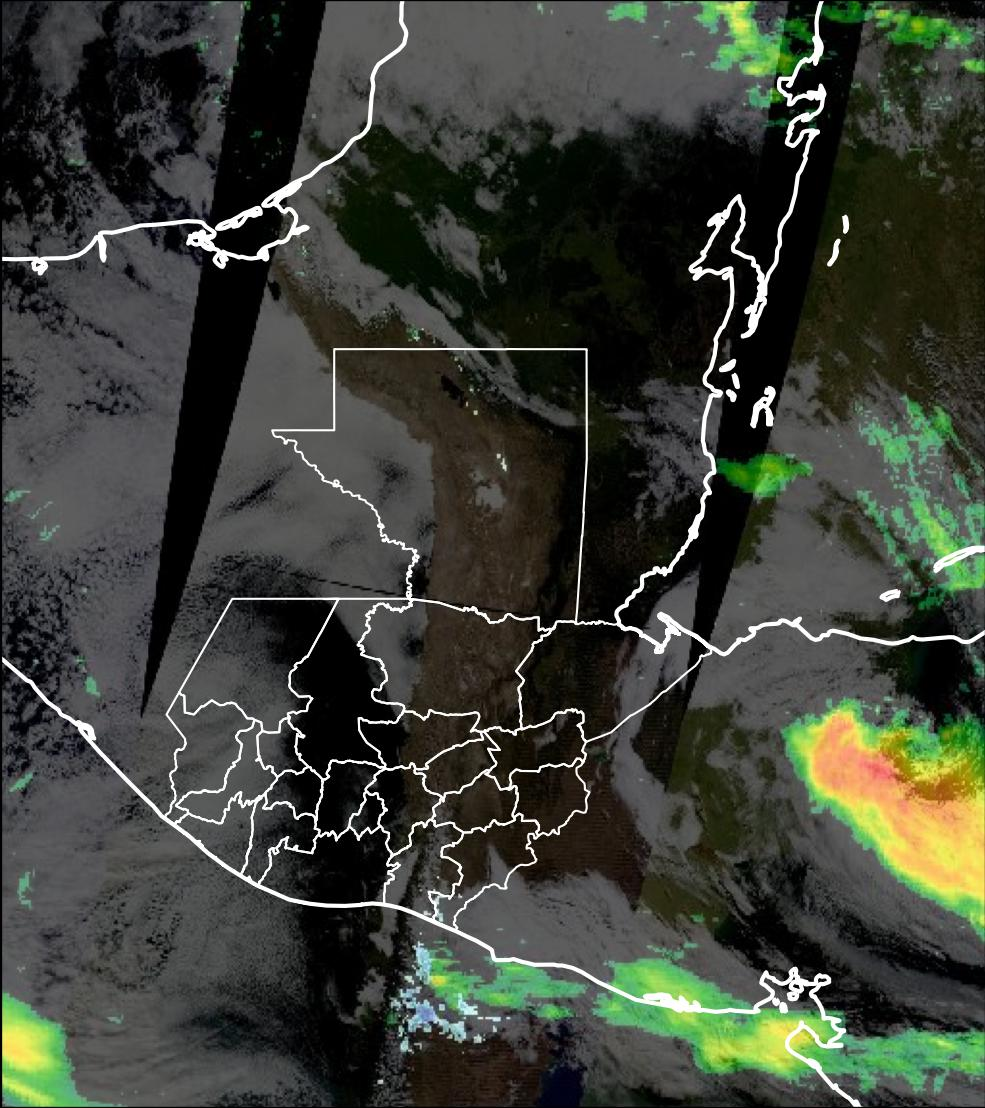precipitacion: (797, 709, 985, 928)
